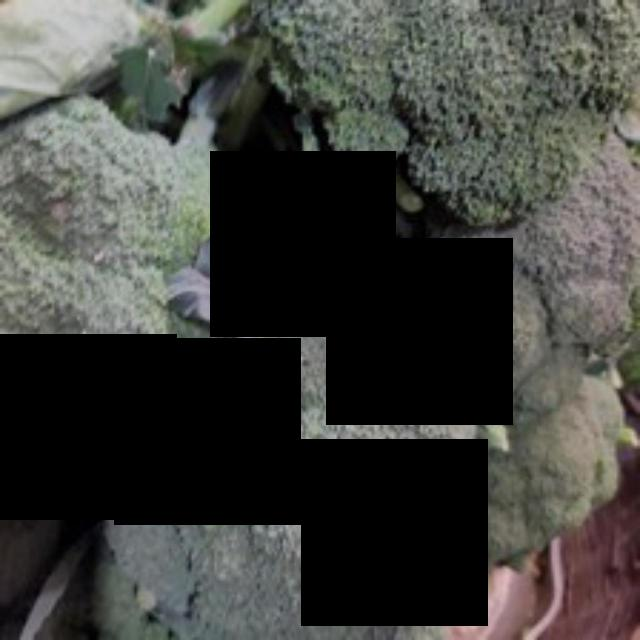broccoli: (83, 288, 508, 637)
